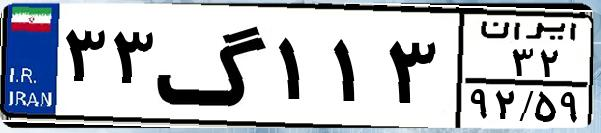1: (270, 28, 330, 110), (330, 28, 385, 110)
2: (537, 27, 568, 80), (495, 70, 520, 125)
3: (385, 28, 445, 110), (57, 26, 110, 100), (110, 28, 156, 98), (508, 27, 537, 80)
5: (535, 70, 560, 125)
9: (560, 70, 590, 125), (470, 70, 495, 125)
گ: (156, 12, 270, 120)
